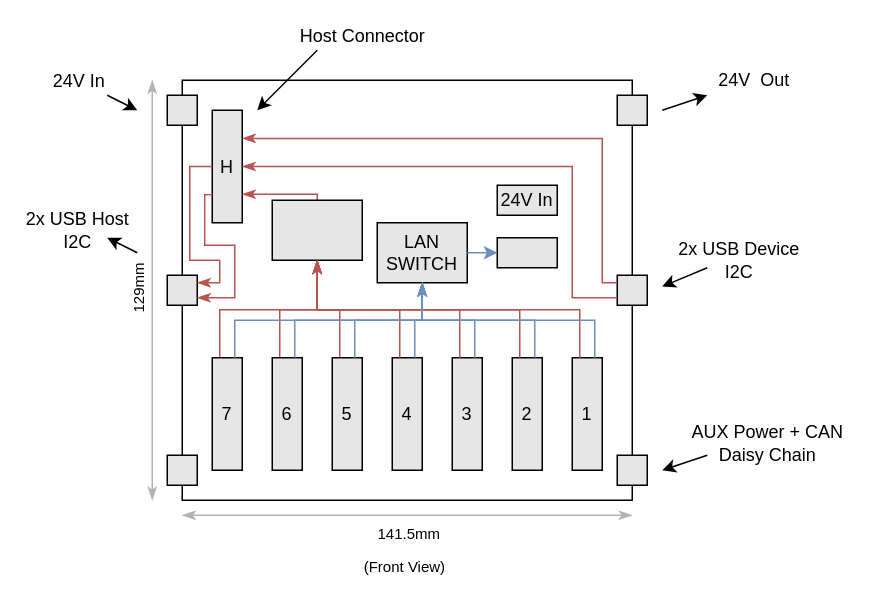
This 869x608 diagram has some shape labels left out. The centre of each missing label's shape, as x and y in pixels:
RJ45: pixel 526 252
USB HUB: pixel 316 229
